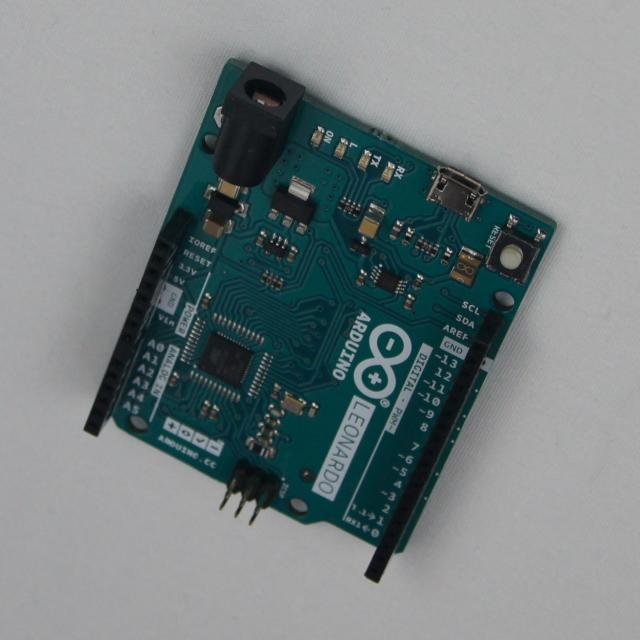Arduino-leonardo: (85, 59, 556, 582)
